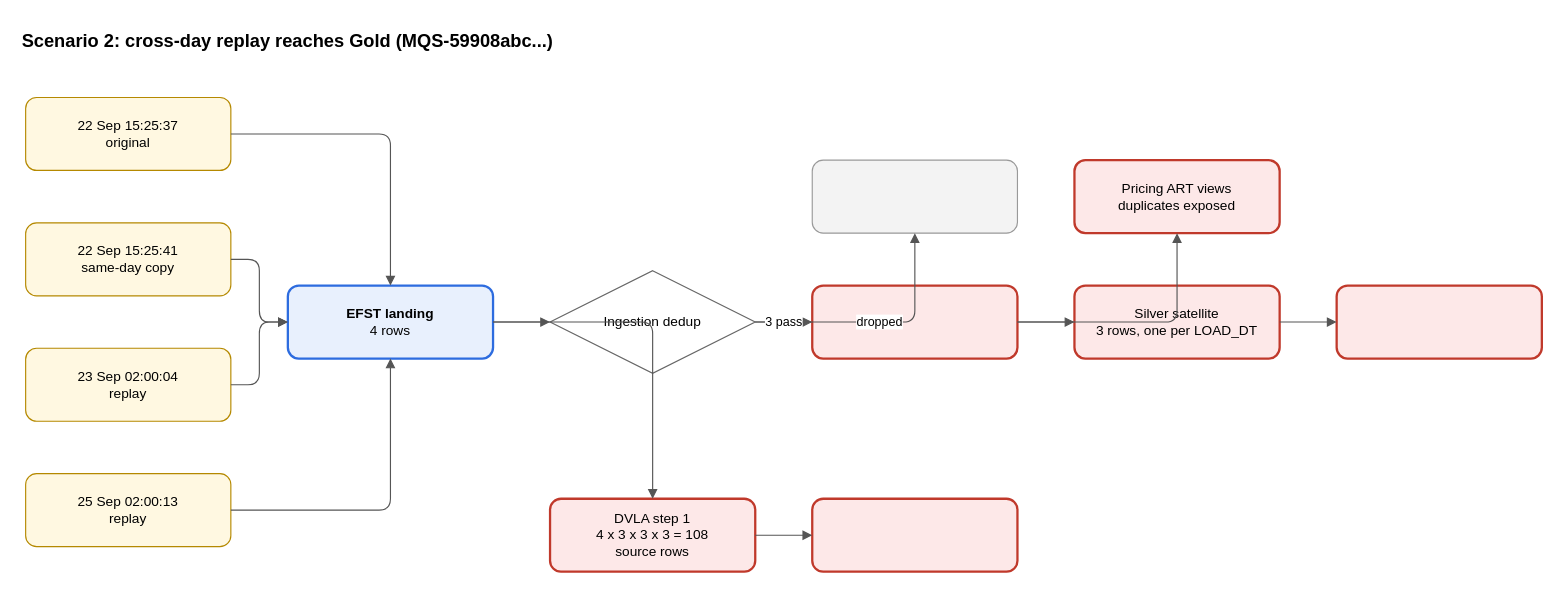
Some shapes in this 1562 by 592 pixel diagram are drawn without their labels. Each missing label, with the centre of its shape:
"Bronze + enrichment 3 rows each" goes at pixel 914 321.
"Gold 3 rows, same RATING_QUOTE_KEY" goes at pixel 1438 321.
"MERGE fails" goes at pixel 914 534.
"Same-day copy removed" goes at pixel 914 196.
